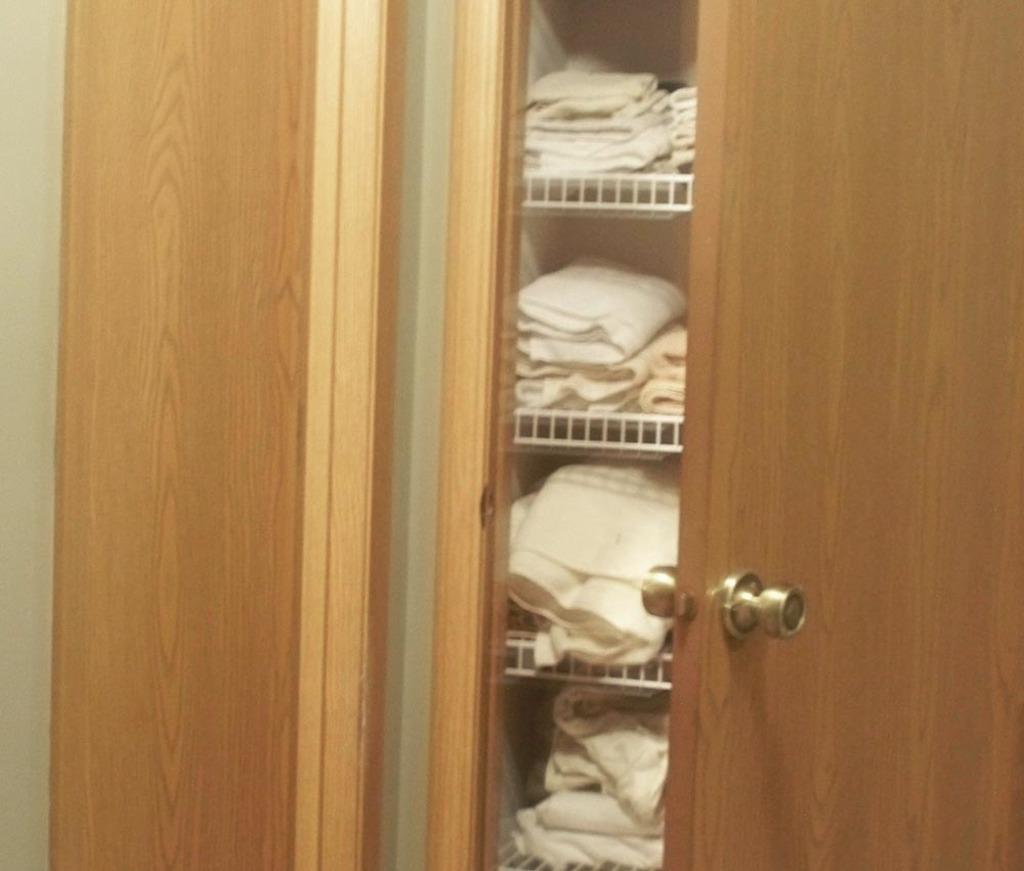door: (668, 10, 1018, 852)
handle: (705, 554, 817, 656), (639, 552, 679, 626)
